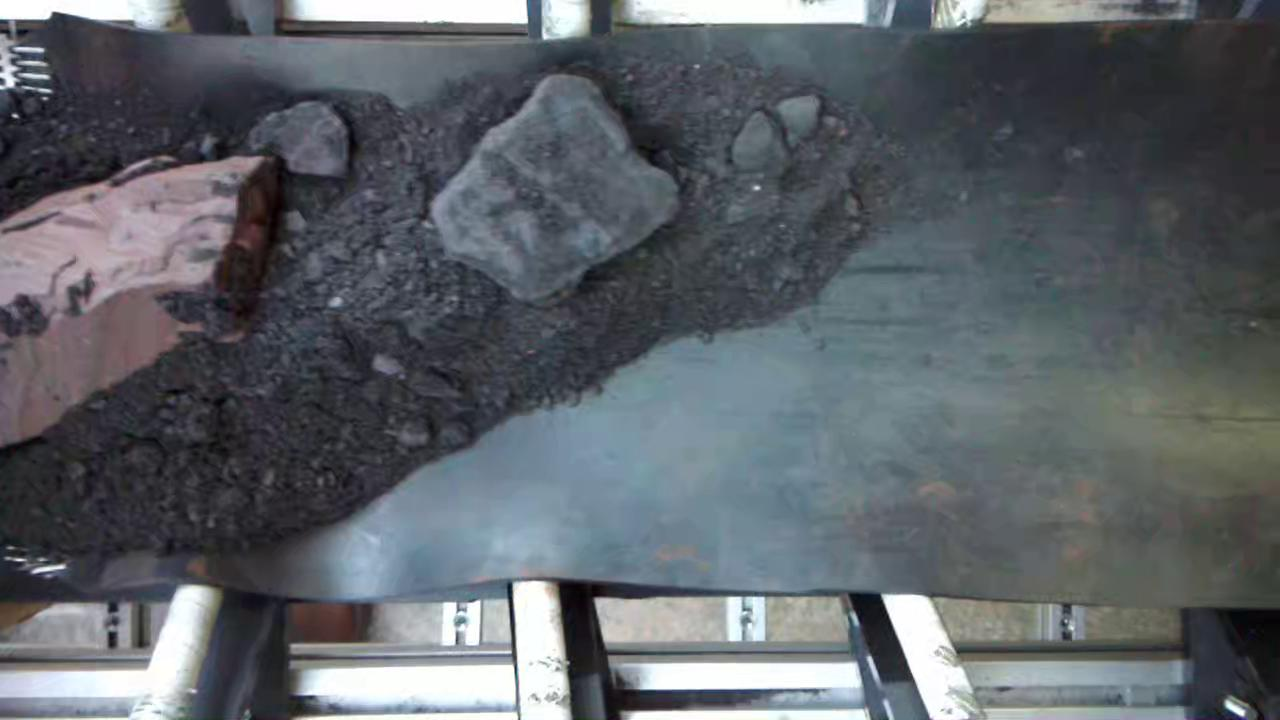conveyor: (0, 45, 1280, 596)
